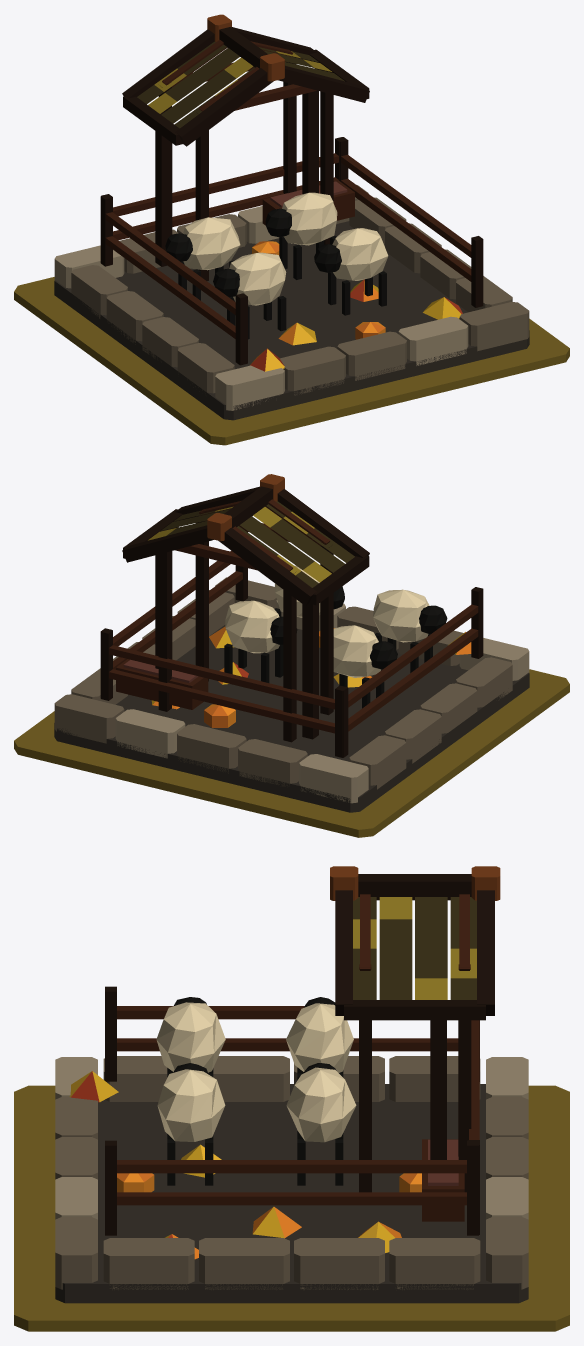
The model's file is pasture_t3.glb.
3 renders of one model, top to bottom at view 1: azimuth 30°, elevation 25°; view 2: azimuth 150°, elevation 25°; view 3: azimuth 270°, elevation 25°, orthographic. The views are drawn at different scales.
Parts seen in each view (by area): view 1: MMR | pasture | T03 Architecture.001, MMR | pasture | Tier 03 Ground.001, MMR | pasture | T03 Autumn Dressing.001; view 2: MMR | pasture | T03 Architecture.001, MMR | pasture | Tier 03 Ground.001, MMR | pasture | T03 Autumn Dressing.001; view 3: MMR | pasture | T03 Architecture.001, MMR | pasture | Tier 03 Ground.001, MMR | pasture | T03 Autumn Dressing.001.
Boxes of the visible parts, x1,y1,x2,y2 form: MMR | pasture | T03 Architecture.001: (54, 14, 529, 420); MMR | pasture | Tier 03 Ground.001: (14, 277, 569, 445); MMR | pasture | T03 Autumn Dressing.001: (250, 241, 462, 371); MMR | pasture | T03 Architecture.001: (54, 474, 529, 812); MMR | pasture | Tier 03 Ground.001: (14, 669, 569, 837); MMR | pasture | T03 Autumn Dressing.001: (151, 626, 471, 727); MMR | pasture | T03 Architecture.001: (55, 866, 528, 1303); MMR | pasture | Tier 03 Ground.001: (14, 1085, 569, 1331); MMR | pasture | T03 Autumn Dressing.001: (69, 1071, 421, 1259).
Bounding box in the file's own units: 2.35 × 1.59 × 2.35.
Materials: 1 (1 with a texture image).
